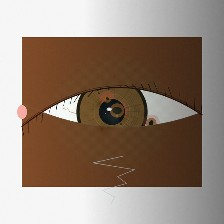foreign_body_visible: (99, 92, 116, 105)
